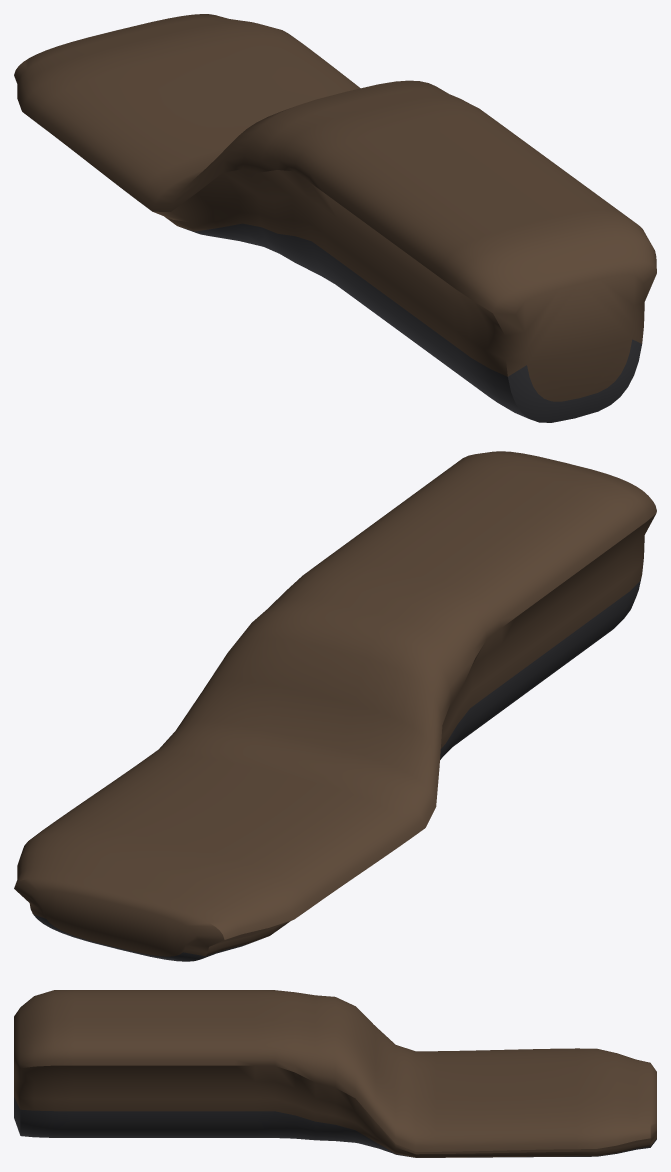
File: king_queen.glb
3 renders of one model, top to bottom at view 1: azimuth 30°, elevation 25°; view 2: azimuth 150°, elevation 25°; view 3: azimuth 270°, elevation 25°, orthographic. The views are drawn at different scales.
Visible parts, largest first — view 1: lod0; view 2: lod0; view 3: lod0.
Part boxes in pixels (<box>): lod0: <box>14,14,656,422</box>; lod0: <box>14,451,656,961</box>; lod0: <box>14,990,656,1157</box>.
Size of what is drawn, in the model's own units: 0.3391 by 0.2 by 1.
